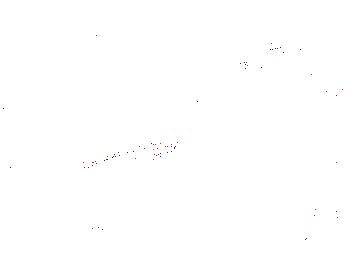X-ray fish: (101, 6, 172, 49)
glassfish: (81, 136, 183, 177)
redtail glassfish: (237, 40, 293, 73), (238, 87, 307, 112), (292, 44, 333, 70)
